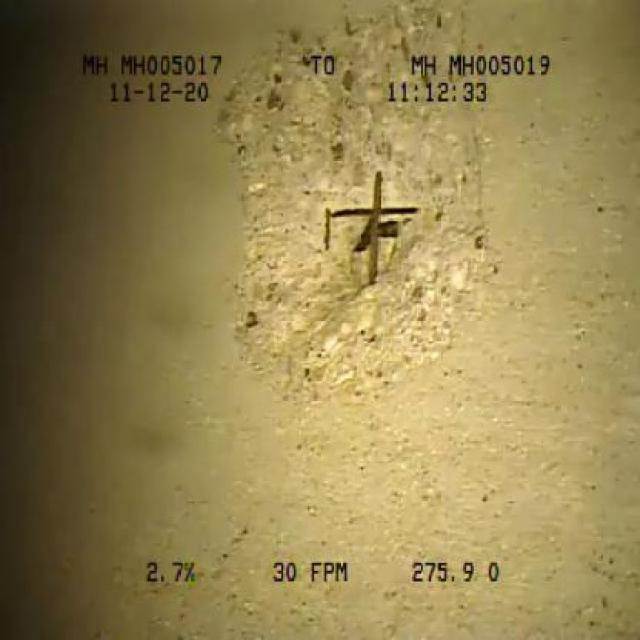Hole: (225, 8, 508, 395)
